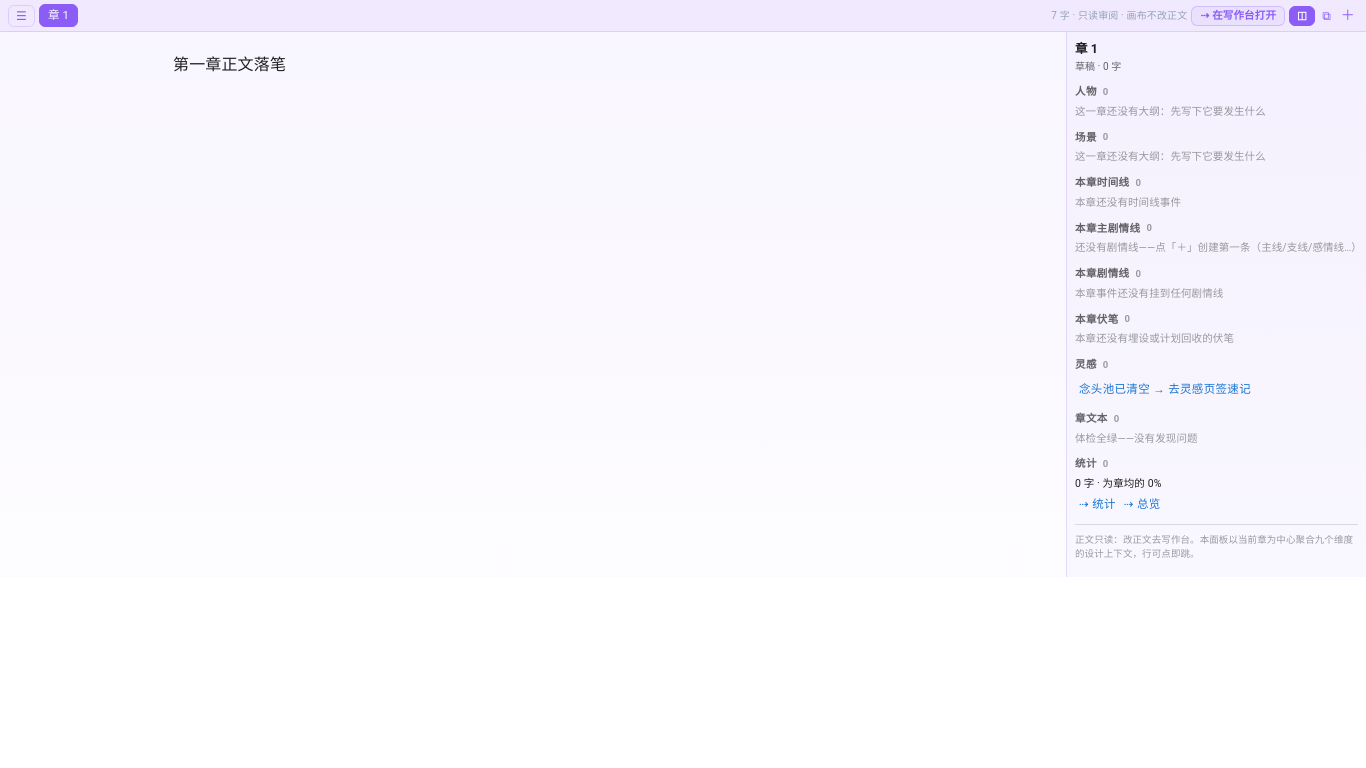
Test case: writingDocs 目录点选 → 真实正文装载 › 点目录行章 2：真实编辑器把内容从章 1 切到章 2
The image size is (1366, 768).
Click the text "☰" at (21, 16), box top-left (8, 5), bottom-right (35, 27)
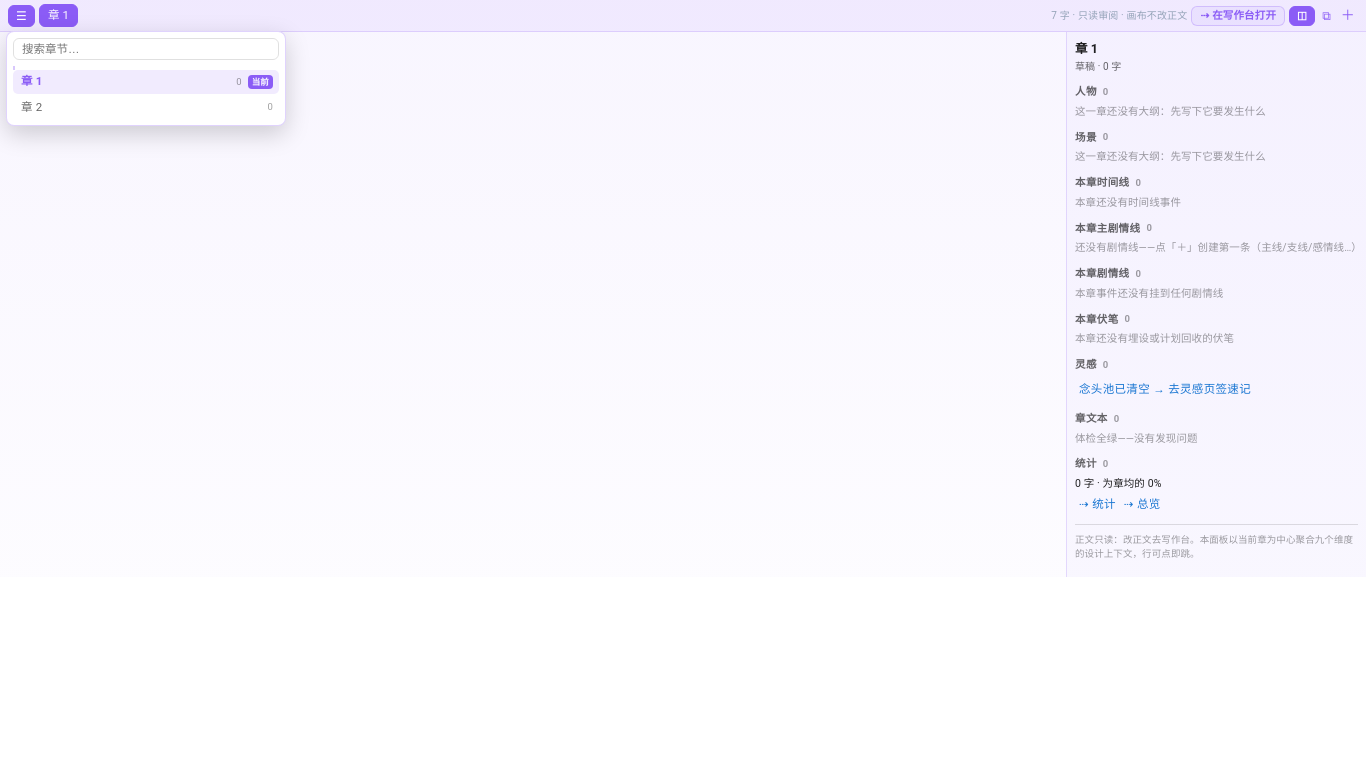
Click the element showing "章 2 0" at (32, 106), box top-left (13, 96), bottom-right (279, 119)
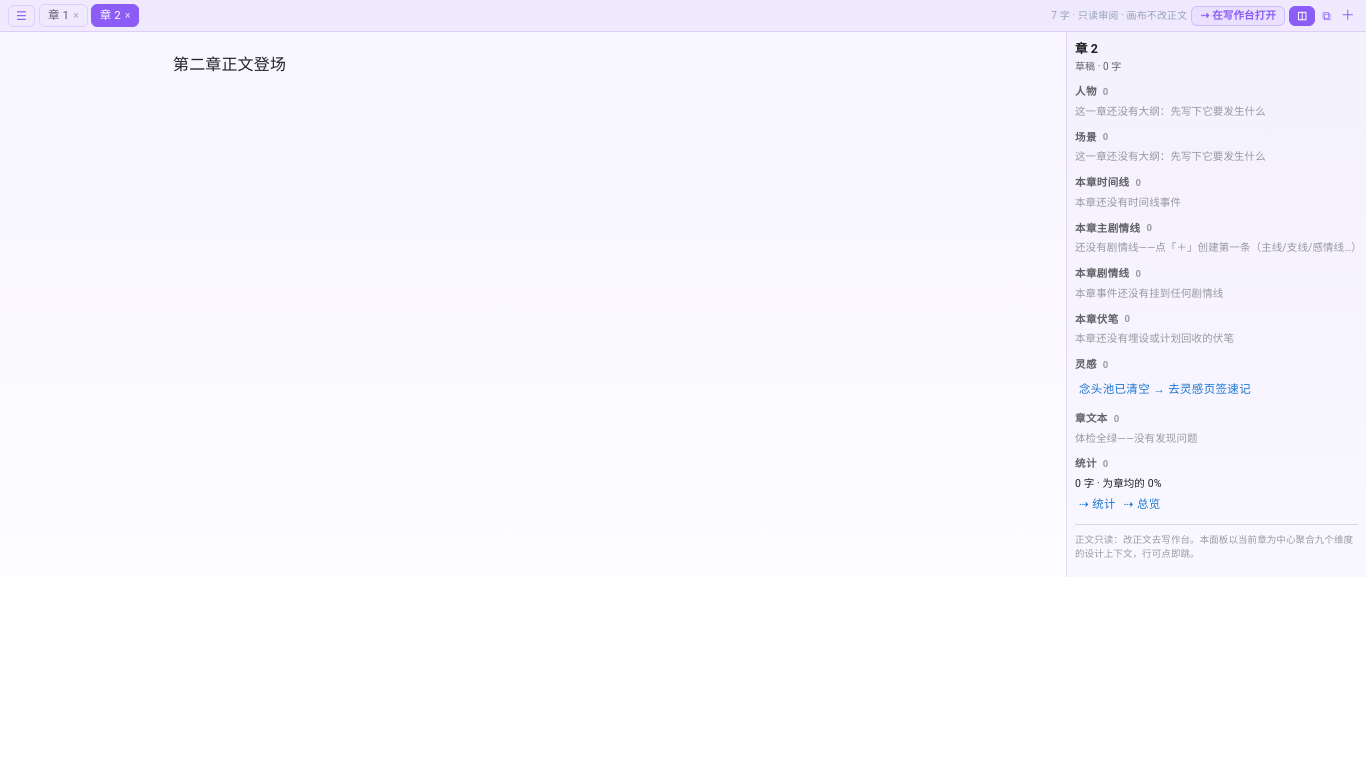
Result: the text "第二章正文登场" is shown at top-left (173, 55), bottom-right (286, 74)
